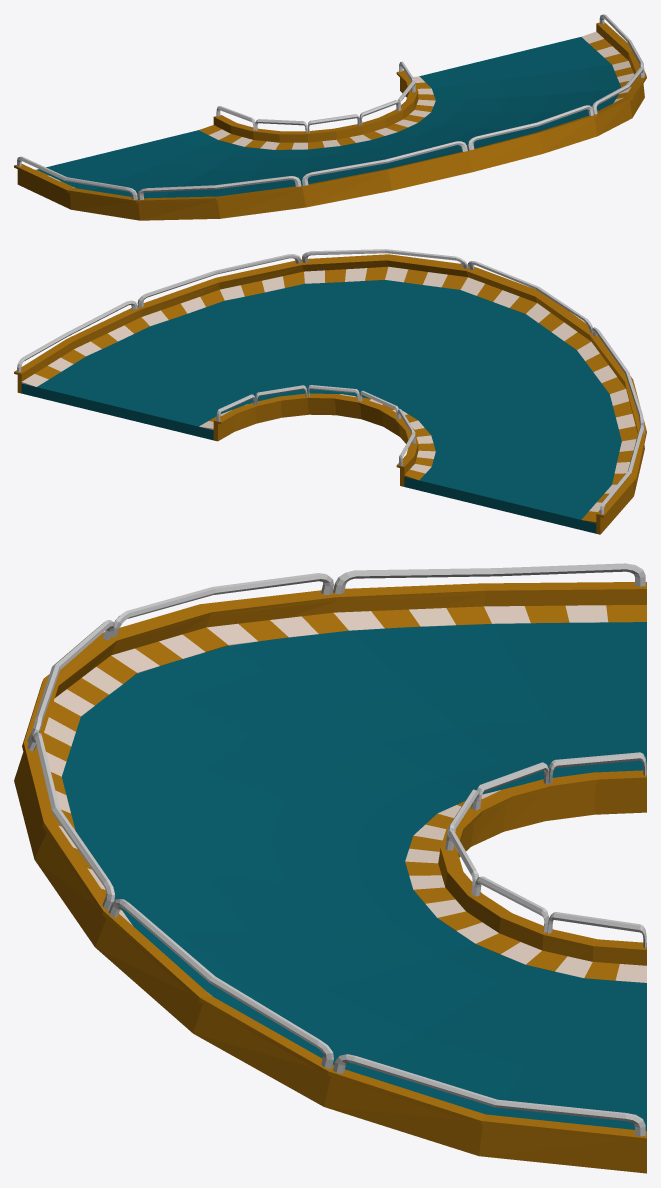
File: curveRight-180-Banked-15.FBX
3 renders of one model, top to bottom at view 1: azimuth 30°, elevation 25°; view 2: azimuth 150°, elevation 25°; view 3: azimuth 270°, elevation 25°, orthographic. The views are drawn at different scales.
Parts seen in each view (by area): view 1: curveRight-180-Banked-15, wall_l, wall_r, curbs_r, curbs_l; view 2: curveRight-180-Banked-15, wall_l, curbs_l, wall_r, curbs_r; view 3: curveRight-180-Banked-15, wall_l, wall_r, curbs_l, curbs_r.
Boxes of the visible parts, box(x1,y1,x2,y2) form: curveRight-180-Banked-15: box(37, 37, 621, 198); wall_l: box(14, 14, 646, 220); wall_r: box(213, 61, 418, 142); curbs_r: box(199, 76, 435, 150); curbs_l: box(35, 31, 635, 187); curveRight-180-Banked-15: box(21, 280, 621, 533); wall_l: box(14, 249, 646, 534); curbs_l: box(21, 266, 637, 523); wall_r: box(213, 385, 418, 486); curbs_r: box(199, 394, 435, 480); curveRight-180-Banked-15: box(62, 622, 646, 1131); wall_l: box(14, 563, 646, 1173); wall_r: box(438, 752, 646, 965); curbs_l: box(42, 605, 646, 995); curbs_r: box(405, 787, 646, 982).
Size of what is drawn, in the model's own units: 589 by 85.37 by 283.
